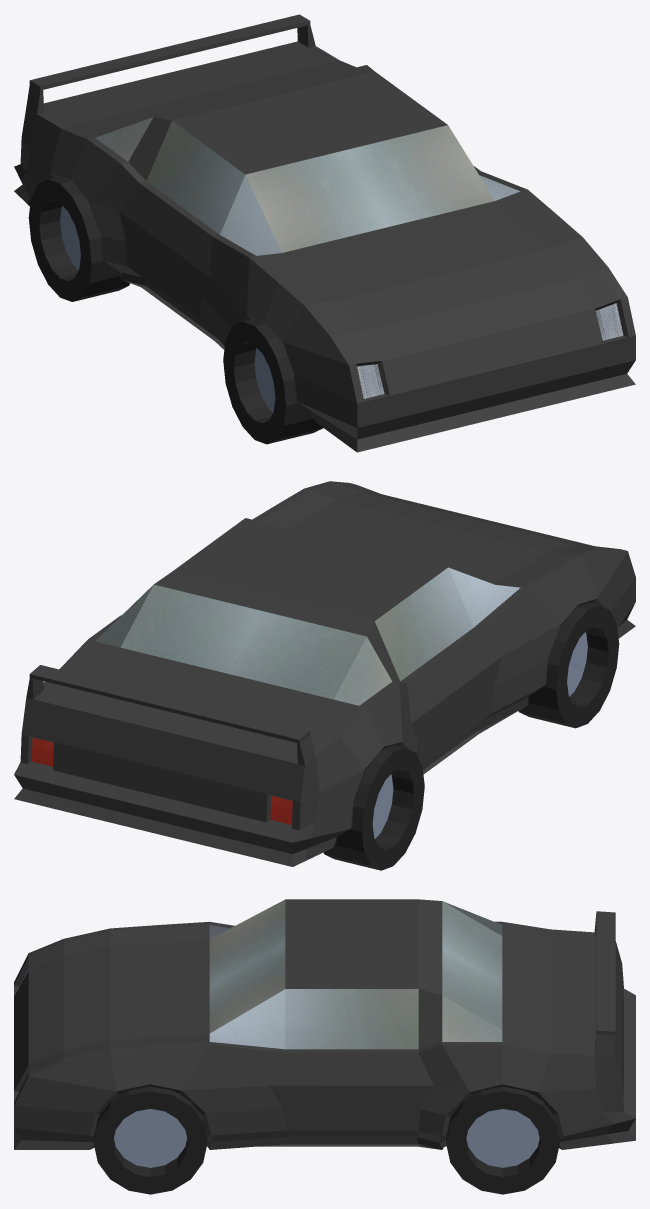
The model's file is carGrey.fbx.
The picture shows the model from 3 angles, top to bottom: view 1: azimuth 30°, elevation 25°; view 2: azimuth 150°, elevation 25°; view 3: azimuth 270°, elevation 25°; orthographic projection. The views are drawn at different scales.
Parts seen in each view (by area): view 1: carGrey; view 2: carGrey; view 3: carGrey.
Part boxes in pixels (x1,y1,x2,y2): carGrey: [14, 14, 635, 452]; carGrey: [14, 481, 635, 870]; carGrey: [14, 899, 635, 1194].
Size of the model in its own units: 122 by 68.42 by 218.
Materials: 3 (3 with a texture image).
